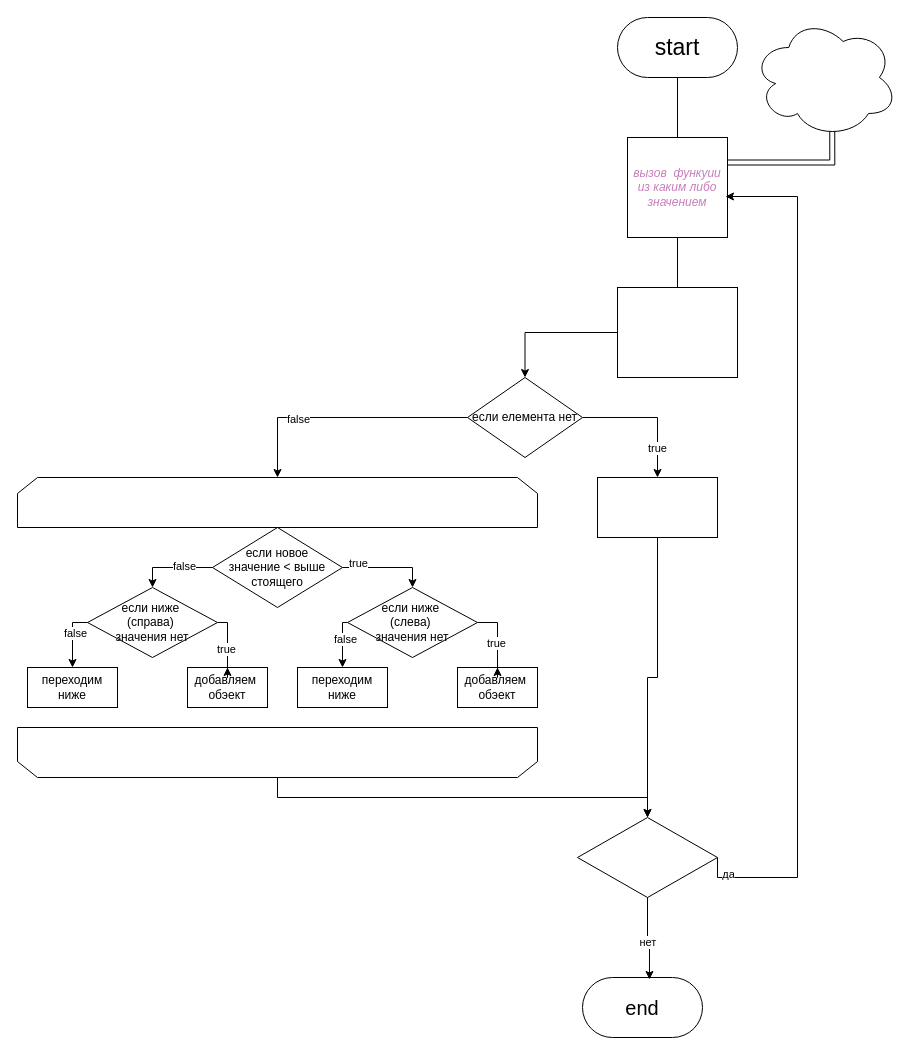
The diagram is 915 pixels wide and 1055 high, and some of its shapes have lost their labels. Here are the shapes that lost their labels. From the top down, the centre of each, then its label:
At point 825,77: "первое число будет главным".
At point 677,332: "присвоения перевеной обэкта из значениями value, left, right".
At point 277,502: "while".
At point 657,507: "присвоение елемента".
At point 647,857: "если есть еще сначения".
